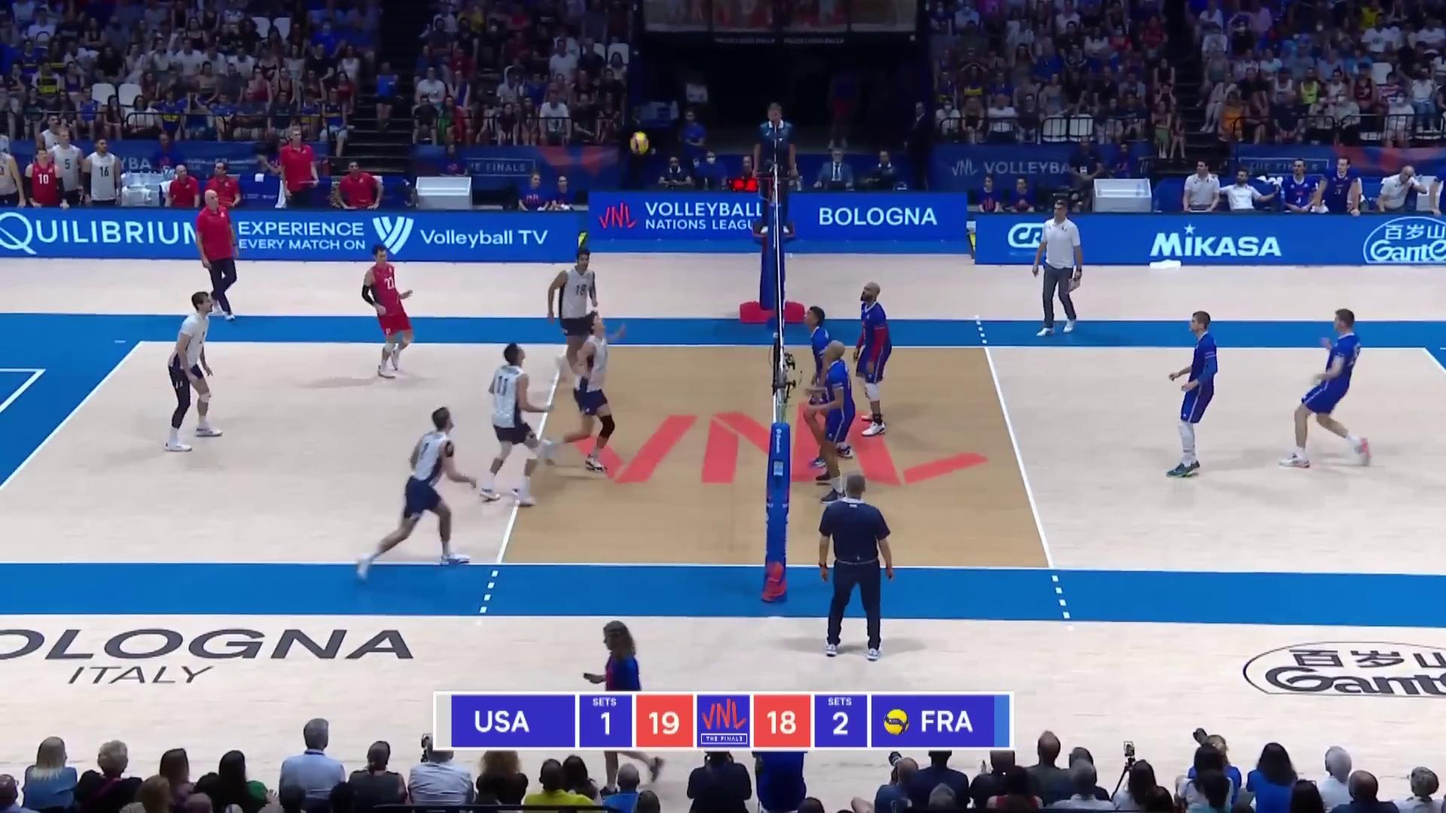player: (359, 407, 485, 567), (1277, 309, 1377, 473), (542, 315, 619, 475), (480, 346, 545, 509), (164, 293, 223, 453), (802, 304, 857, 467), (1166, 310, 1217, 480), (550, 249, 610, 386), (808, 341, 855, 505), (359, 248, 411, 380), (849, 283, 894, 435)
refree: (814, 472, 892, 658), (756, 103, 798, 237)
